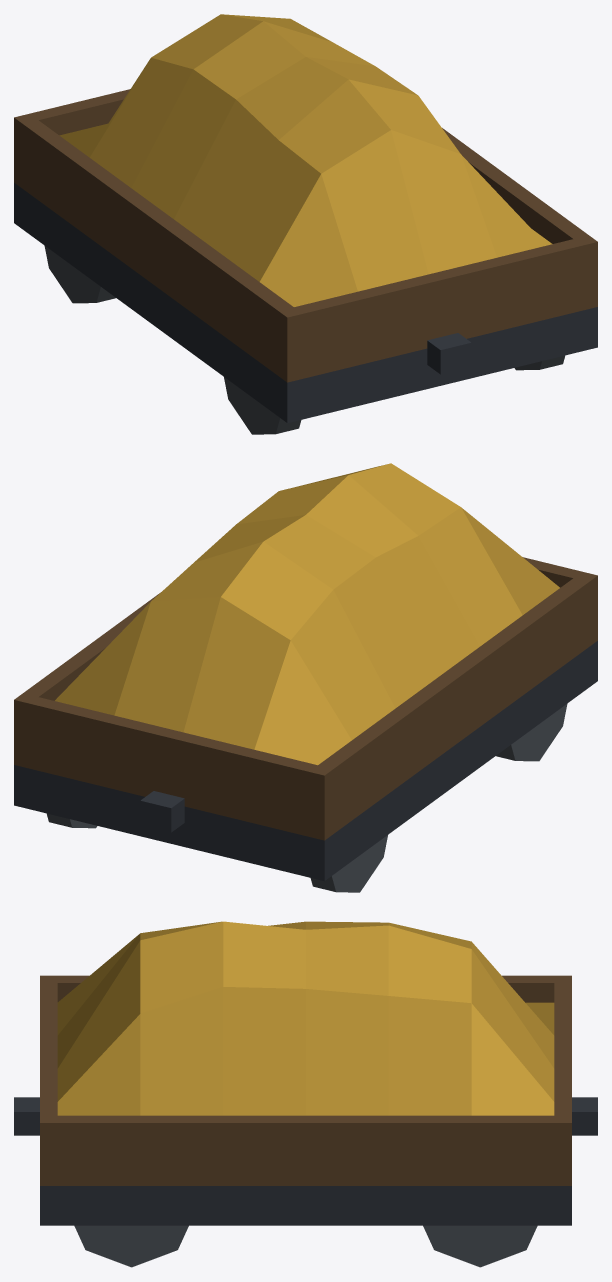
The model's file is wagon_food.glb.
3 renders of one model, top to bottom at view 1: azimuth 30°, elevation 25°; view 2: azimuth 150°, elevation 25°; view 3: azimuth 270°, elevation 25°, orthographic. The views are drawn at different scales.
Parts seen in each view (by area): view 1: wagon_food; view 2: wagon_food; view 3: wagon_food.
Part boxes in pixels (box(x1,y1,x2,y2)): wagon_food: box(14, 14, 597, 434); wagon_food: box(14, 463, 597, 892); wagon_food: box(14, 921, 597, 1267).
Size of the model in its own units: 0.8 by 0.7034 by 1.34.
